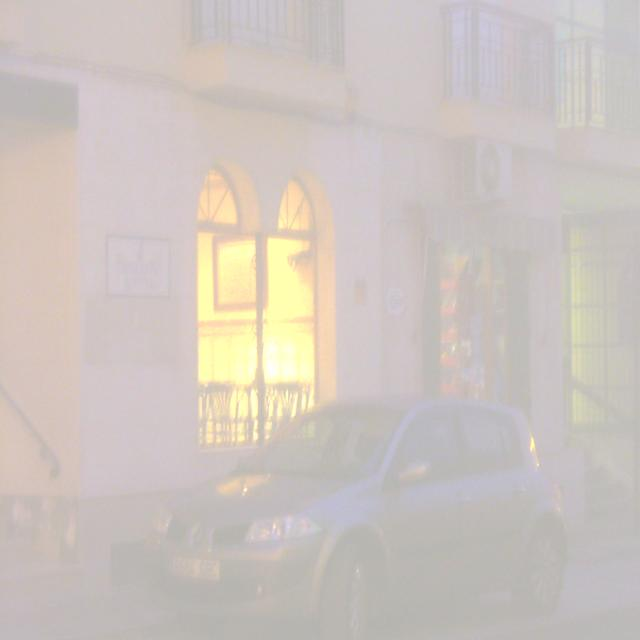Car: (145, 401, 569, 640)
